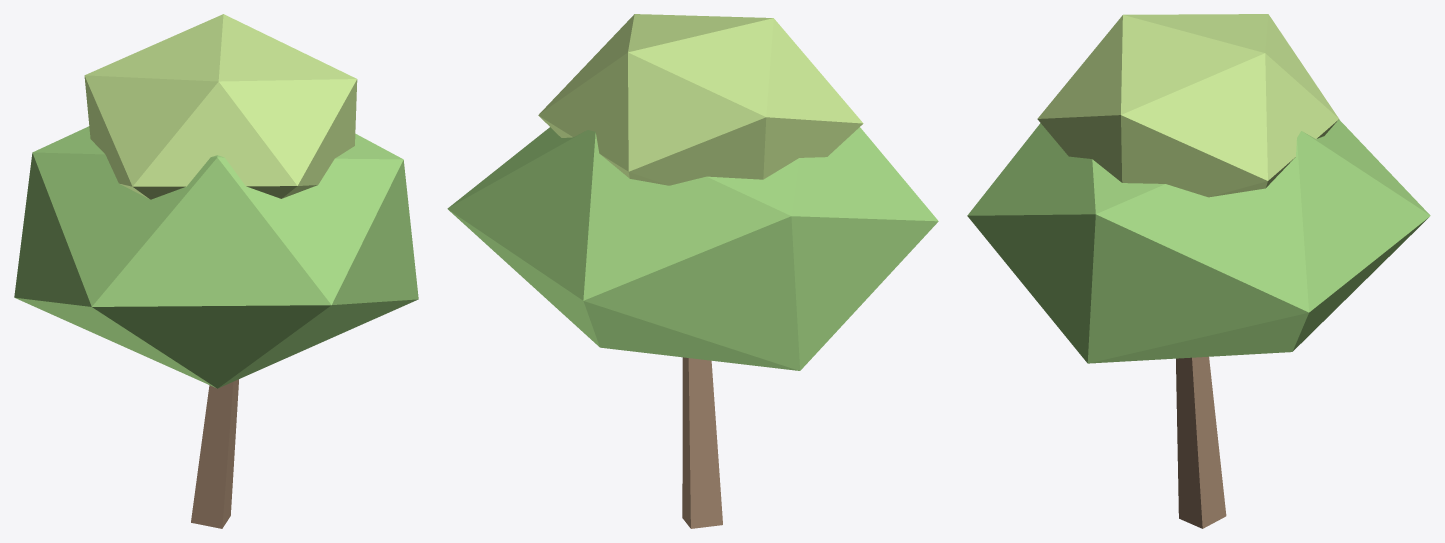
File: laranjeira_1_lod.fbx
The picture shows the model from 3 angles, left to right: view 1: azimuth 30°, elevation 25°; view 2: azimuth 150°, elevation 25°; view 3: azimuth 270°, elevation 25°; orthographic projection. The views are drawn at different scales.
Parts seen in each view (by area): view 1: laranjeira_1_lod~Copa@leaf, laranjeira_1_lod~Copa 0@leaflight, laranjeira_1_lod~Tronco@bark; view 2: laranjeira_1_lod~Copa@leaf, laranjeira_1_lod~Copa 0@leaflight, laranjeira_1_lod~Tronco@bark; view 3: laranjeira_1_lod~Copa@leaf, laranjeira_1_lod~Copa 0@leaflight, laranjeira_1_lod~Tronco@bark.
Boxes of the visible parts, <box> form: laranjeira_1_lod~Copa@leaf: <box>14,126,418,388</box>; laranjeira_1_lod~Copa 0@leaflight: <box>84,14,357,199</box>; laranjeira_1_lod~Tronco@bark: <box>191,379,238,528</box>; laranjeira_1_lod~Copa@leaf: <box>447,127,938,370</box>; laranjeira_1_lod~Copa 0@leaflight: <box>538,14,863,185</box>; laranjeira_1_lod~Tronco@bark: <box>682,357,722,528</box>; laranjeira_1_lod~Copa@leaf: <box>967,119,1430,363</box>; laranjeira_1_lod~Copa 0@leaflight: <box>1037,14,1338,197</box>; laranjeira_1_lod~Tronco@bark: <box>1176,356,1226,528</box>.
Bounding box in the file's own units: 3.93 × 4.76 × 4.09.
